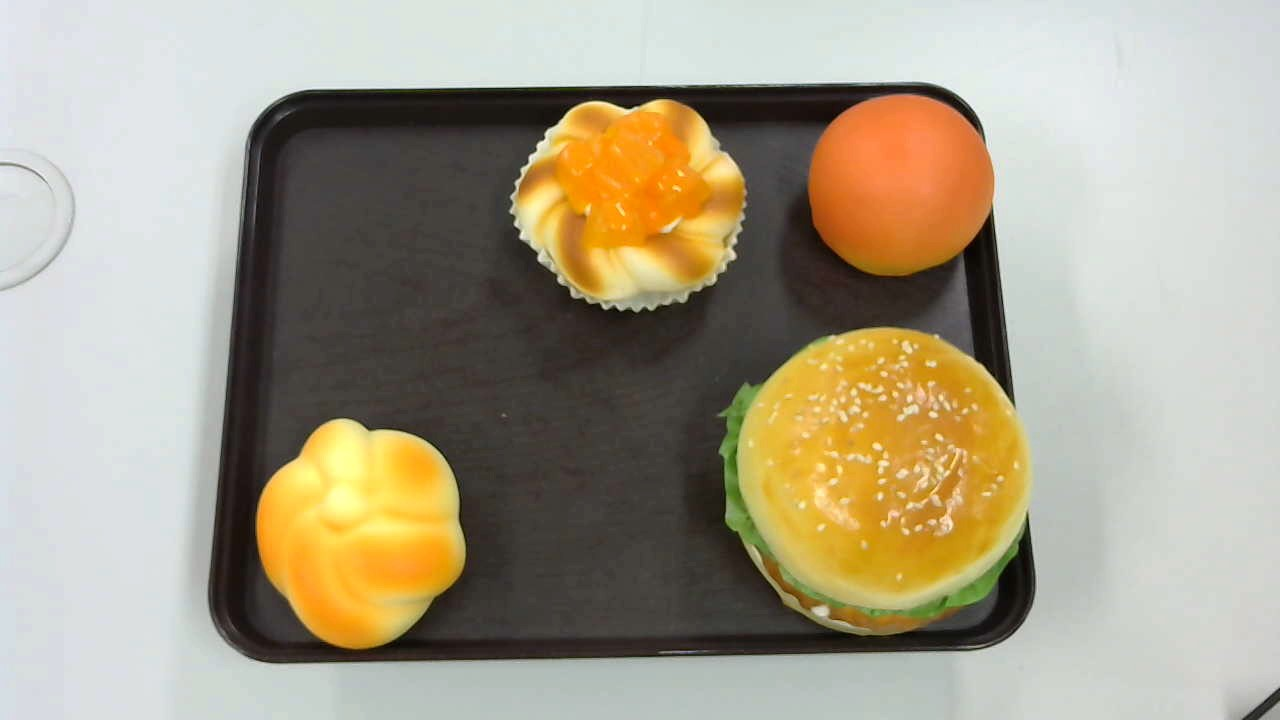bun: (808, 91, 994, 280)
hamburger: (720, 327, 1031, 638)
mango tart: (511, 97, 749, 314)
twist bread: (253, 417, 464, 650)
